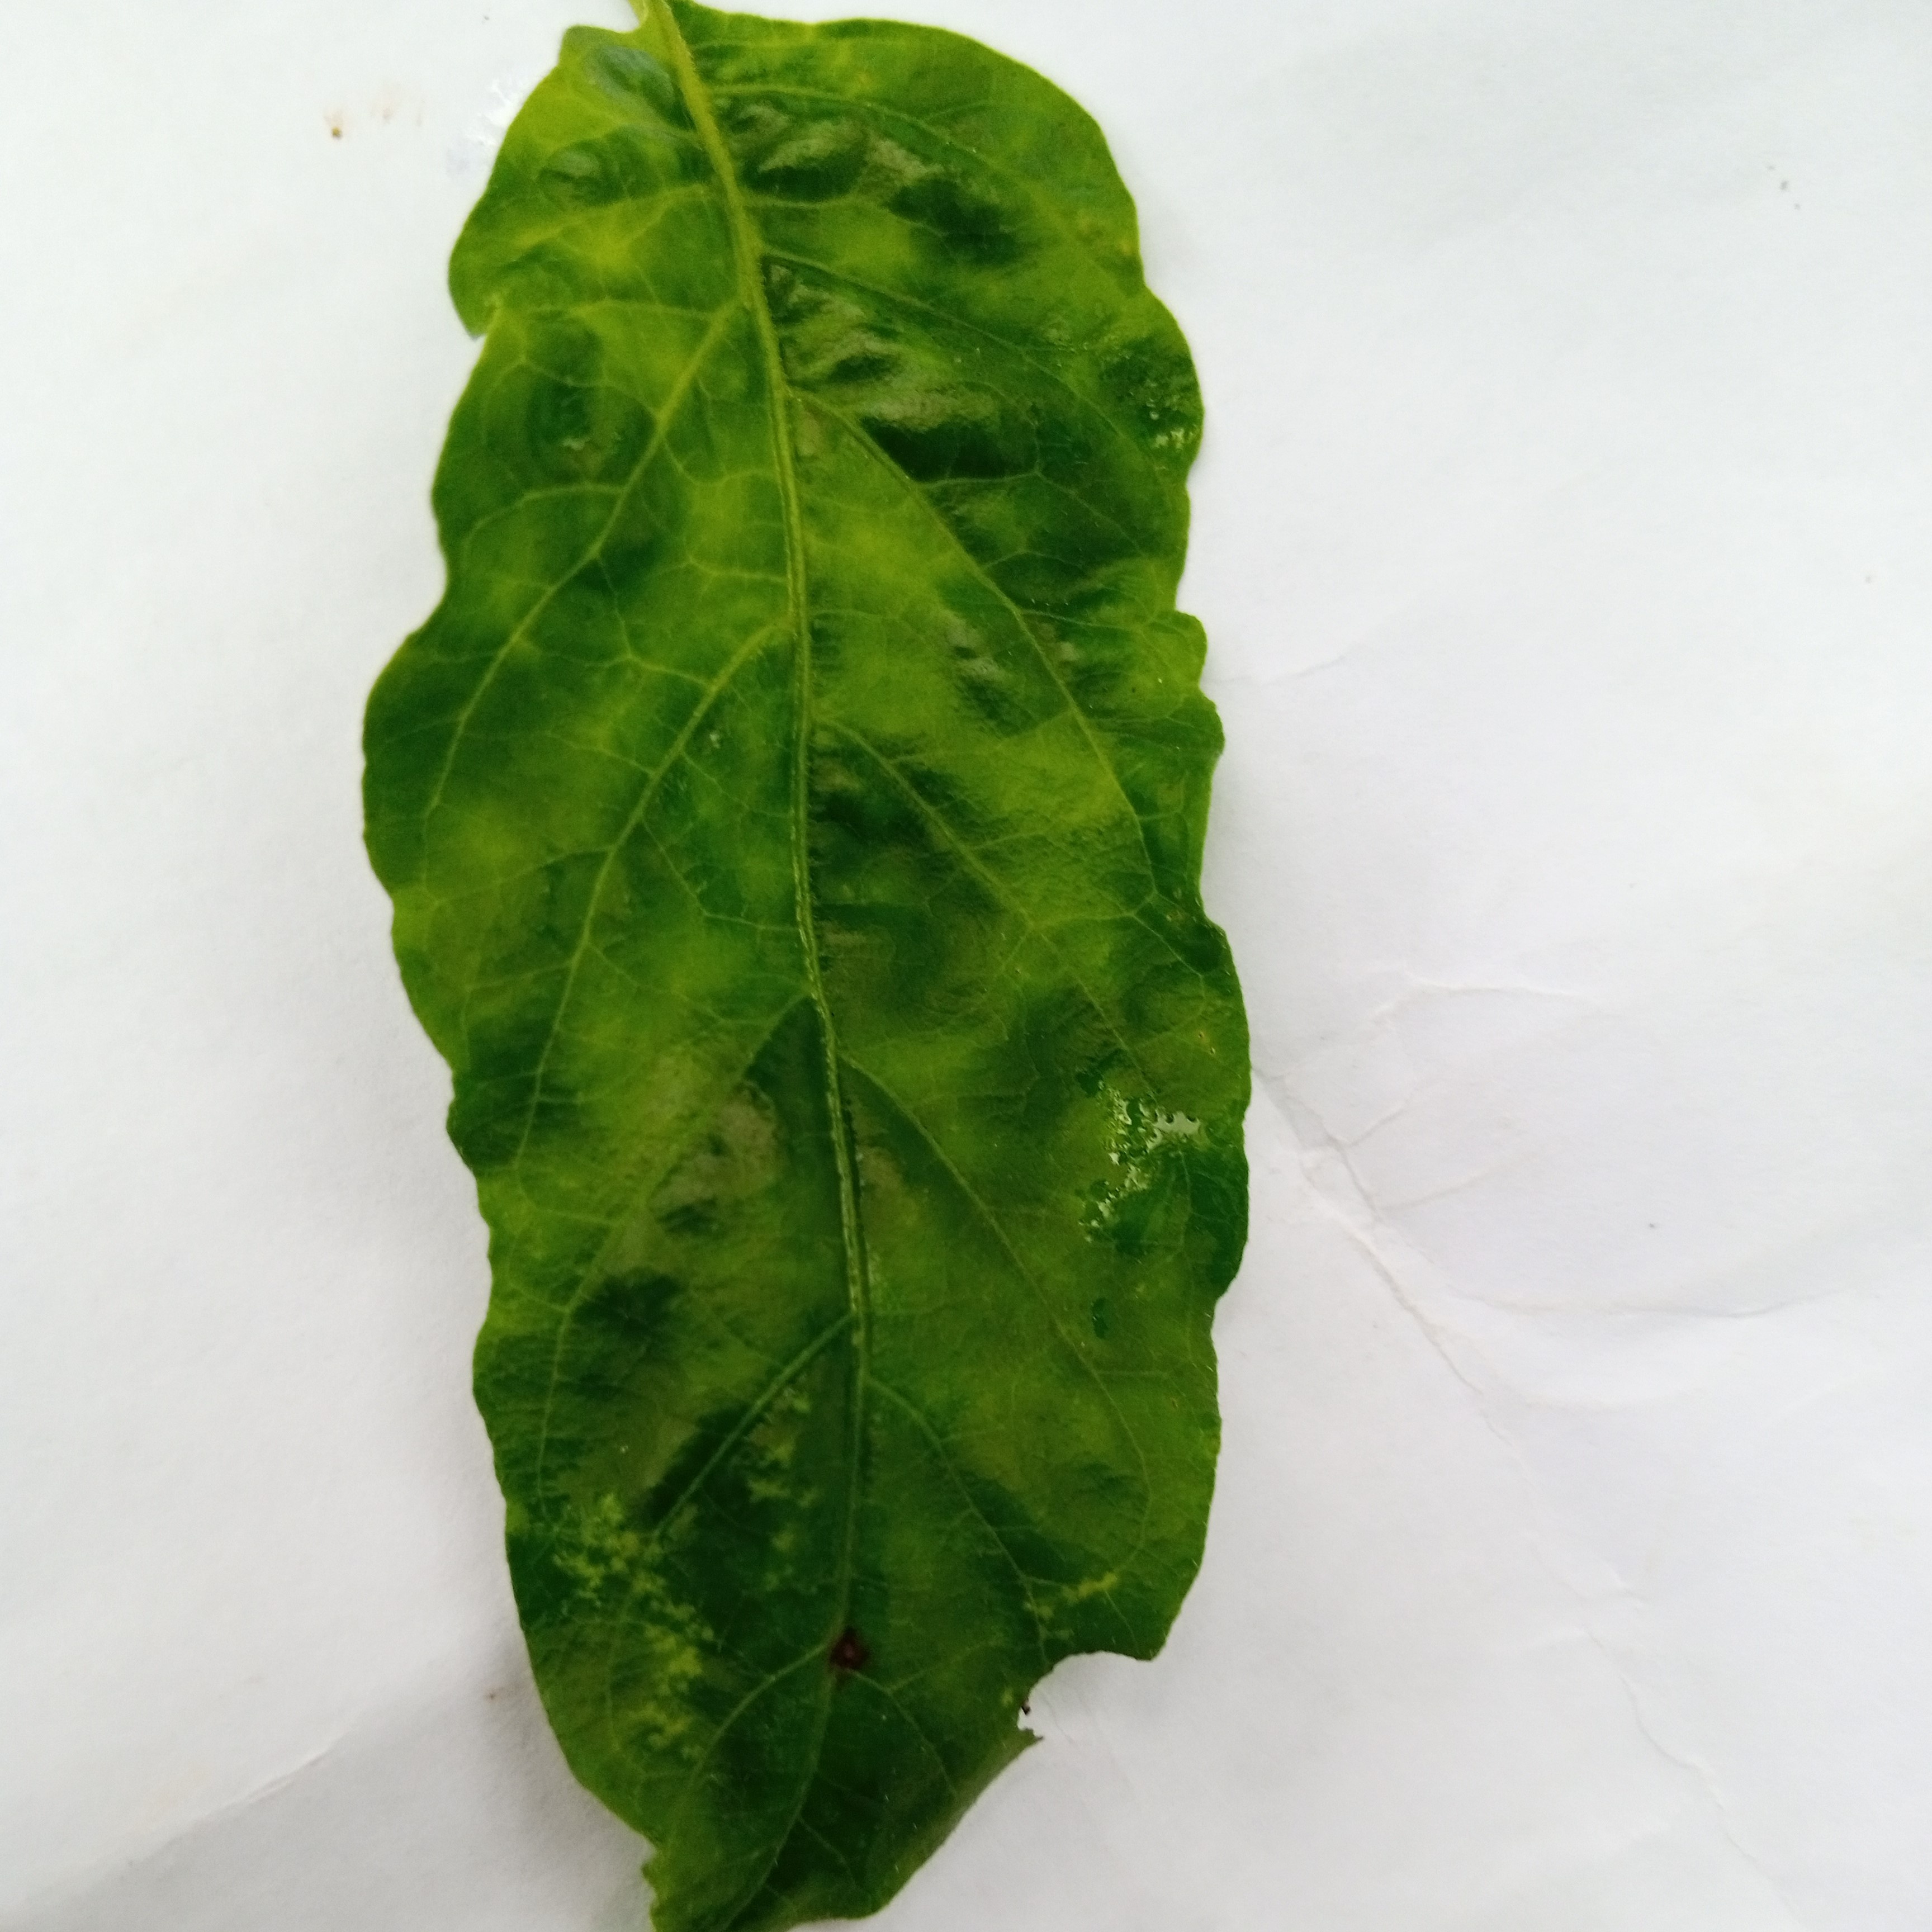Leaf: (287, 5, 1522, 1932)
